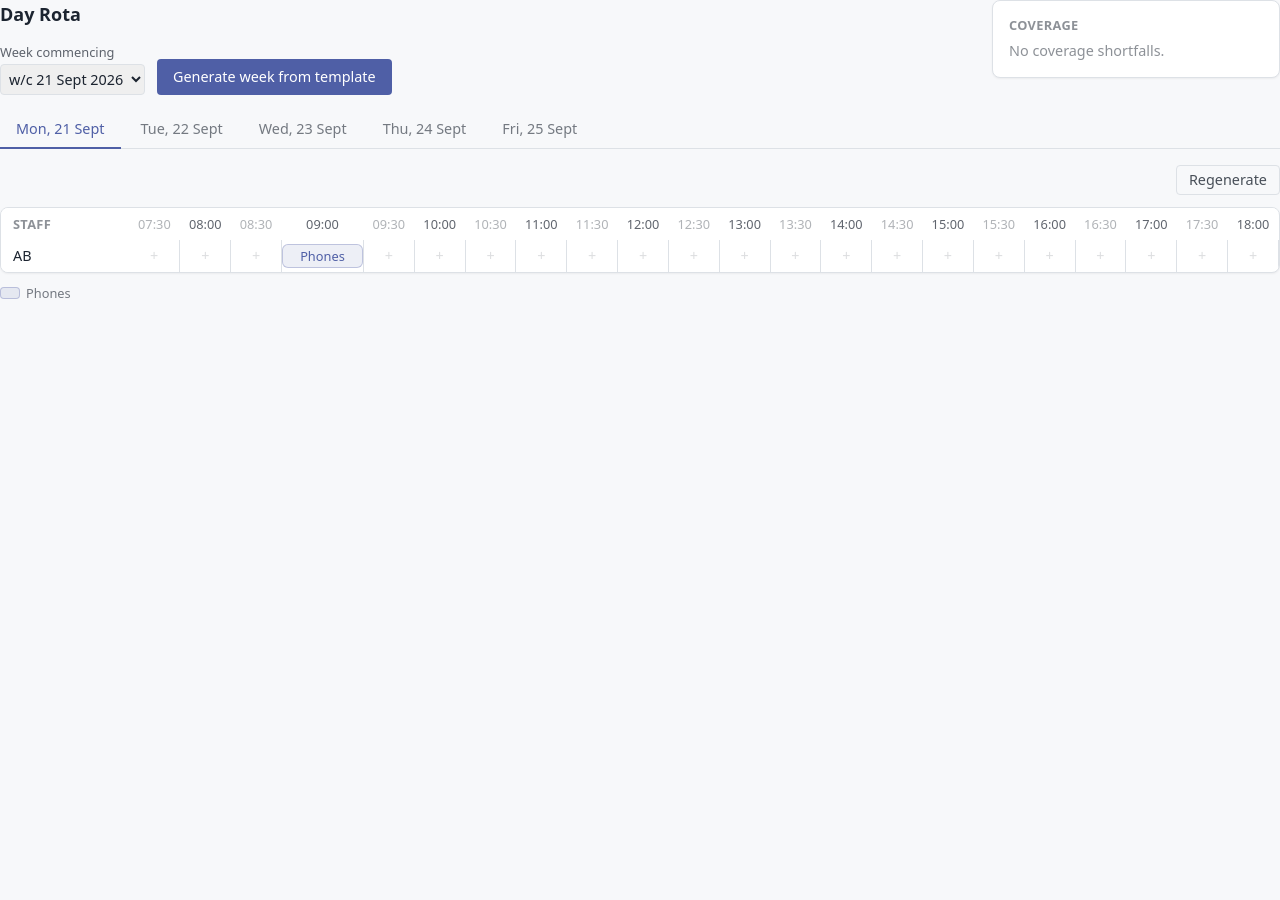
Test: ReceptionDayPage › splices a patched cell and its recomputed issues from one PATCH response
Click the text "Phones". click: (322, 256)
box: [300,247,345,265]
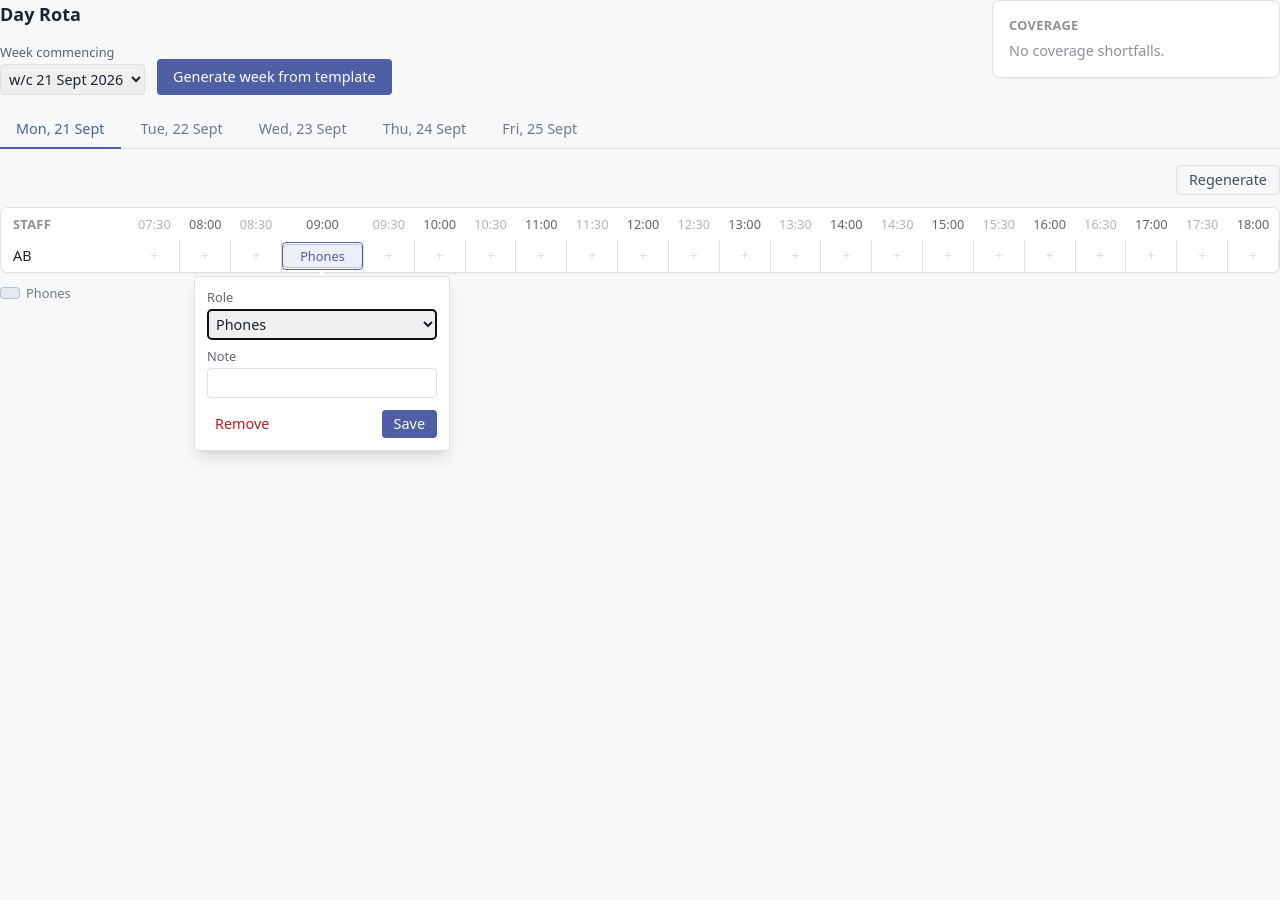
Select "Other" in the dropdown labelled "Role". click: (322, 324)
box: [207,309,437,340]
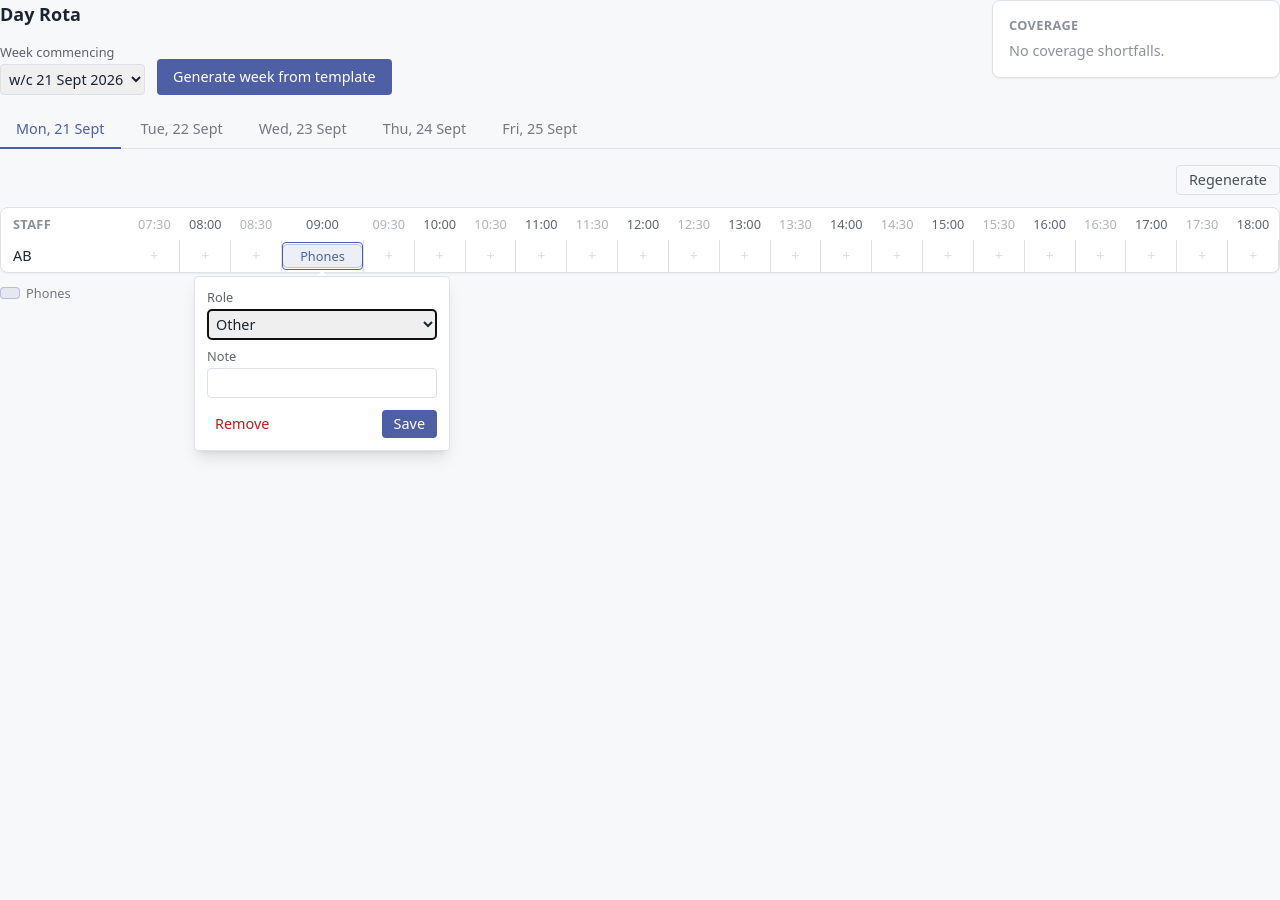
Click the button "Save". click: (409, 424)
box: [382,410,437,438]
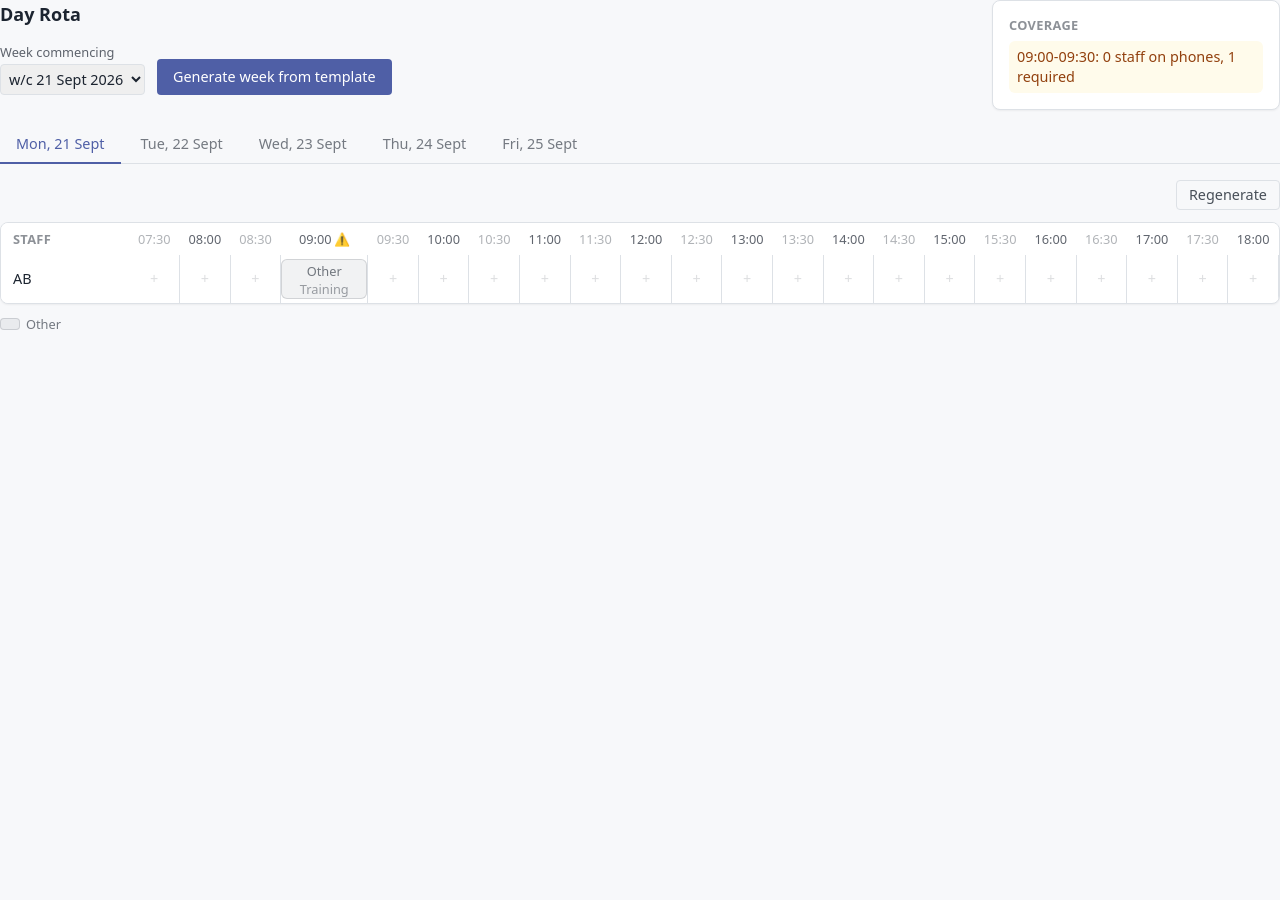
Now the text "Training" is shown, box [300,280,349,298]
Now the list item "09:00-09:30: 0 staff on phones, 1 required" is shown, box [1009,41,1263,93]
